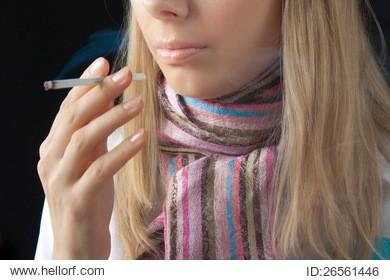Cigarette: (44, 71, 146, 90)
